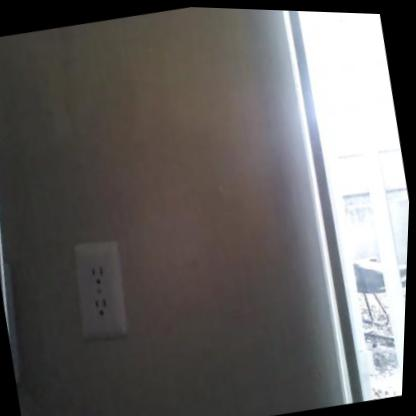OUTLET: (68, 239, 131, 341)
